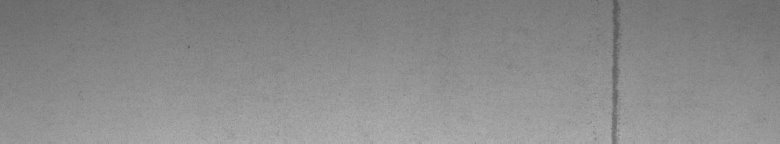hd: (608, 4, 624, 136)
